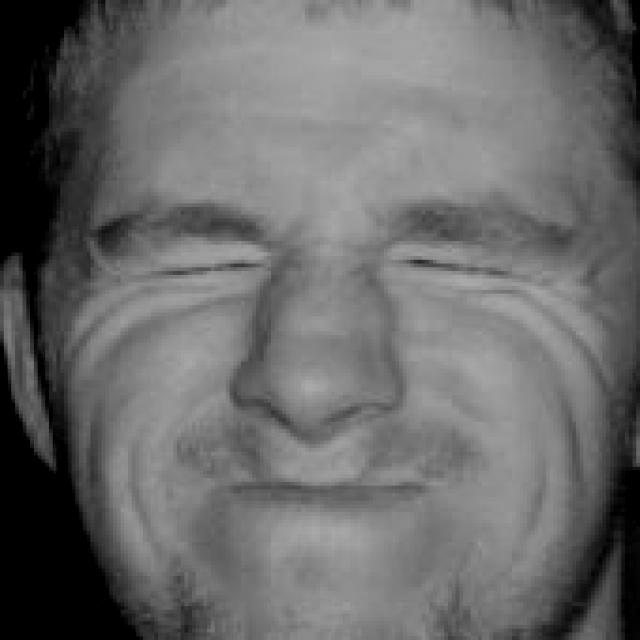real: (36, 50, 624, 632), (126, 200, 536, 334)
